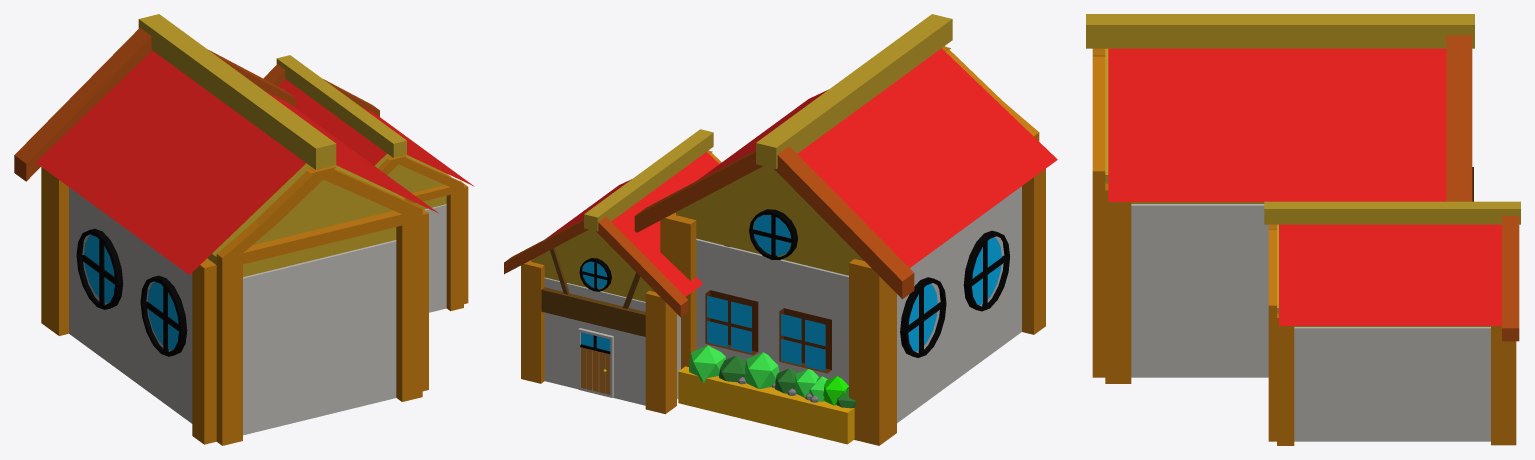
The model's file is casa3.fbx.
The picture shows the model from 3 angles, left to right: view 1: azimuth 30°, elevation 25°; view 2: azimuth 150°, elevation 25°; view 3: azimuth 270°, elevation 25°; orthographic projection. The views are drawn at different scales.
Visible parts, largest first — view 1: casa3; view 2: casa3; view 3: casa3.
Part boxes in pixels (x1,y1,x2,y2): casa3: (14, 14, 474, 445); casa3: (504, 14, 1057, 445); casa3: (1086, 14, 1520, 445).
Size of the model in its own units: 555 by 388 by 502.
